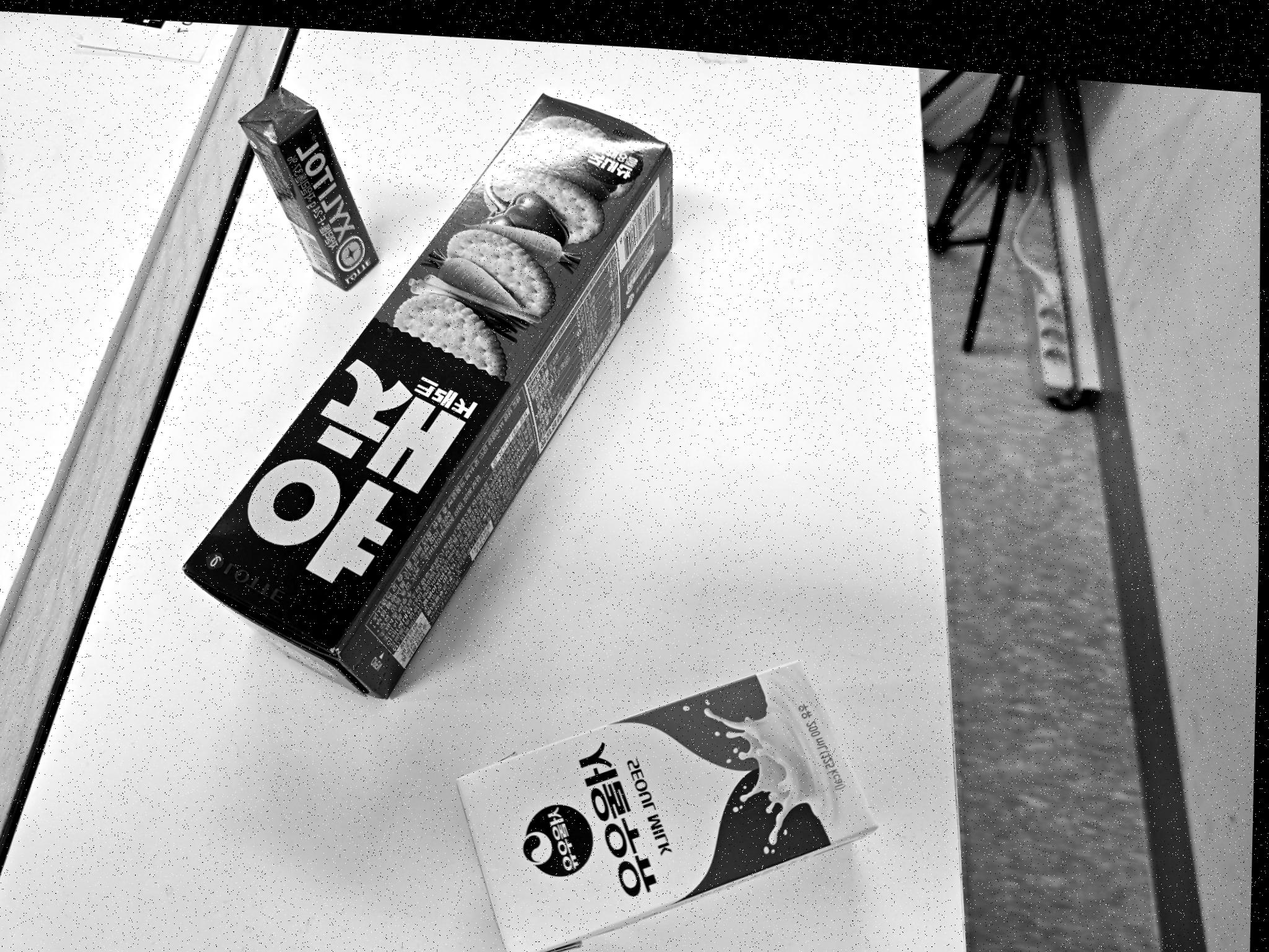cracker_vege: (180, 90, 676, 698)
gum_green: (238, 83, 378, 291)
milk_green: (453, 656, 880, 952)
